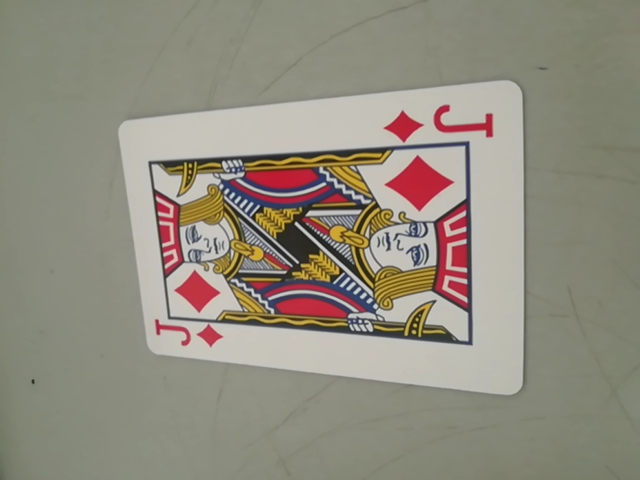fk j: (385, 100, 497, 146), (153, 318, 227, 358)
